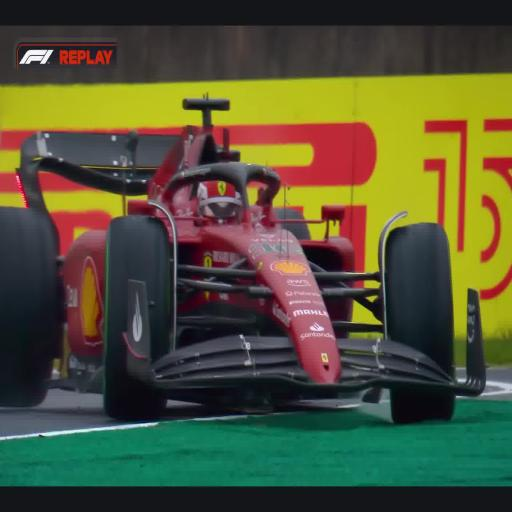f1_car: (0, 97, 486, 422)
